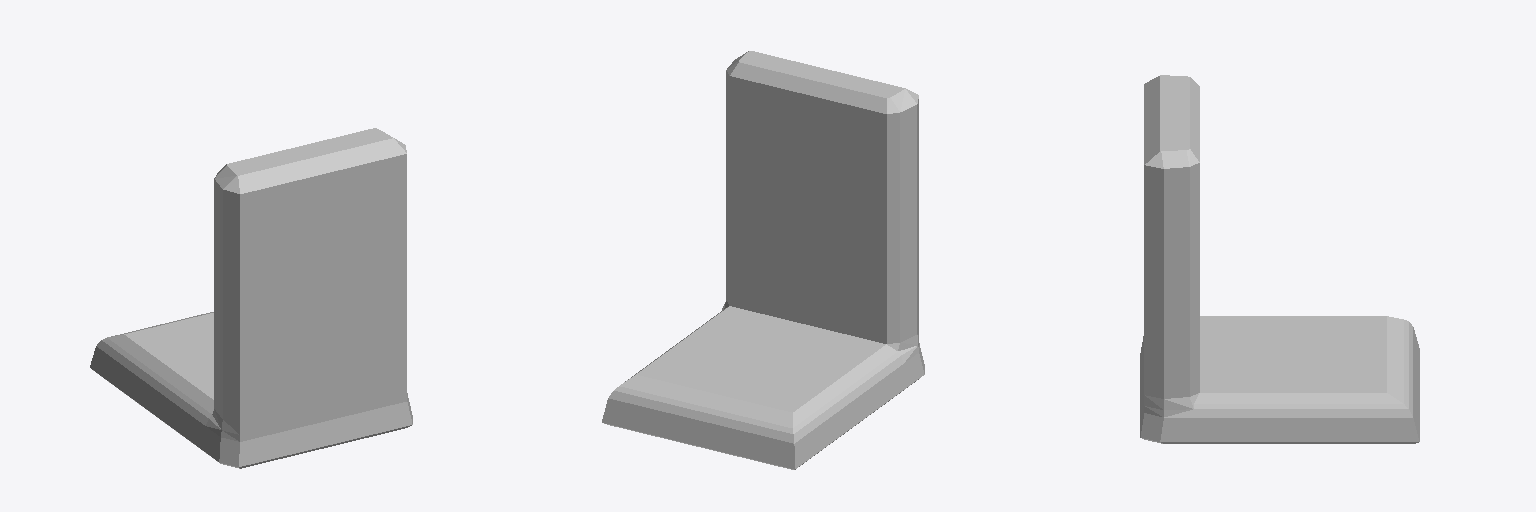
The model's file is Chair.obj.
The picture shows the model from 3 angles: view 1: azimuth 30°, elevation 25°; view 2: azimuth 150°, elevation 25°; view 3: azimuth 270°, elevation 25°; orthographic projection.
Visible parts, largest first — view 1: Chairs; view 2: Chairs; view 3: Chairs.
Part boxes in pixels (x1,y1,x2,y2): Chairs: (90,128,412,468); Chairs: (602,51,924,469); Chairs: (1140,75,1419,443).
Size of the model in its own units: 0.4563 by 0.6442 by 0.5703.